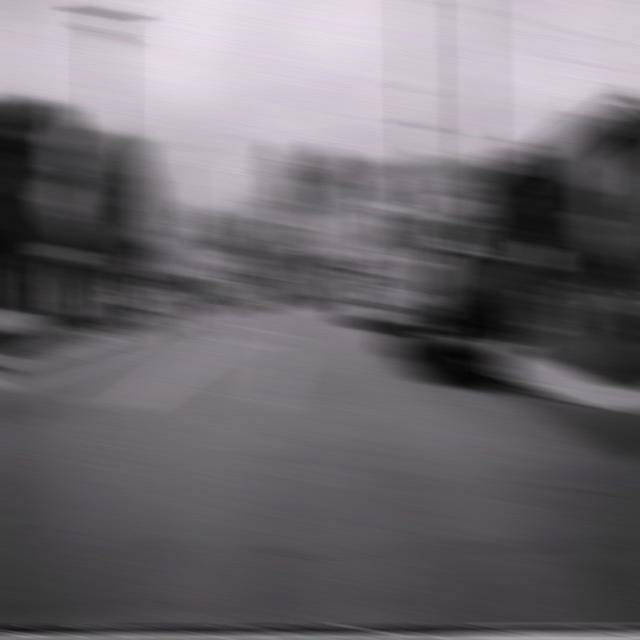pedestrianCrossing: (385, 206, 420, 240)
